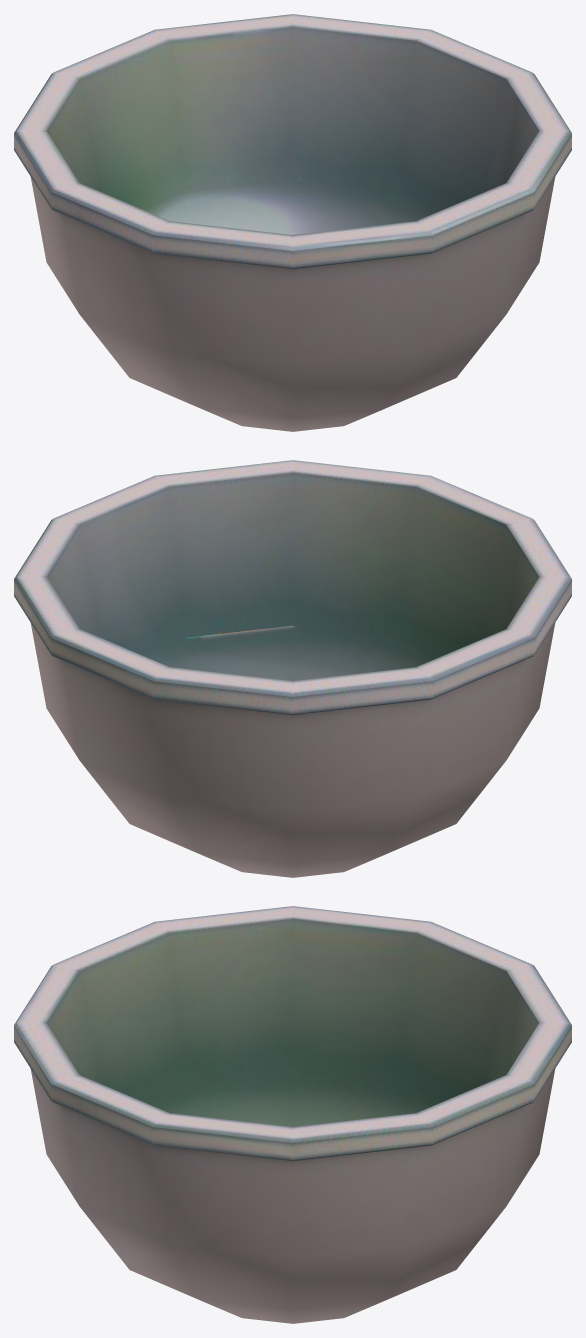
File: mixingBowlSugar.glb
The picture shows the model from 3 angles, top to bottom: view 1: azimuth 30°, elevation 25°; view 2: azimuth 150°, elevation 25°; view 3: azimuth 270°, elevation 25°; orthographic projection.
Visible parts, largest first — view 1: MixingBowl; view 2: MixingBowl; view 3: MixingBowl.
Boxes of the visible parts, x1,y1,x2,y2 form: MixingBowl: (14, 14, 571, 431); MixingBowl: (14, 460, 571, 877); MixingBowl: (14, 906, 571, 1323).
Size of the model in its own units: 0.3931 by 0.2142 by 0.3931.
2 materials, 2 textured.
